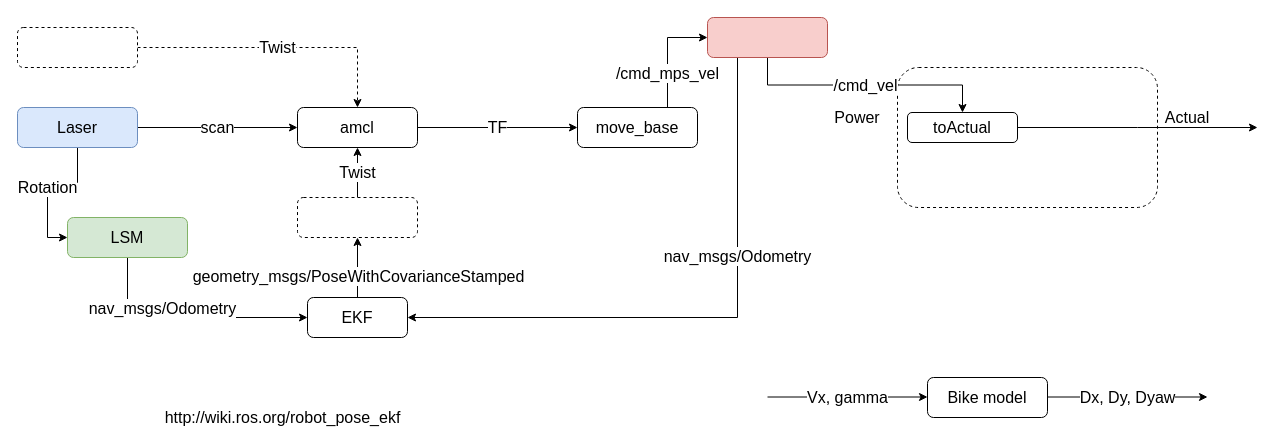
This 1283x445 diagram has some shape labels left out. The box of each missing label's shape, as (x1, y1, x2, y2) in pixels:
gazebo: (896, 66, 1158, 208)
Inv Mapper: (706, 16, 828, 58)
Odometer: (296, 196, 418, 238)
Wheel Odometry: (16, 26, 138, 68)
